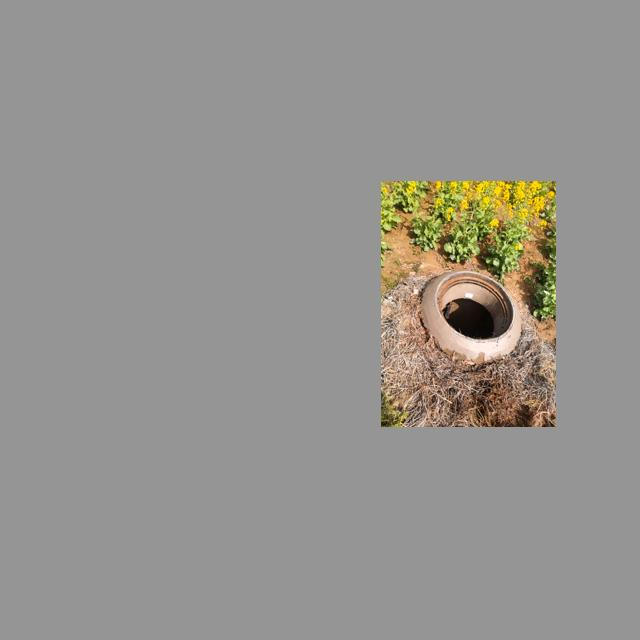lose: (426, 271, 520, 342)
